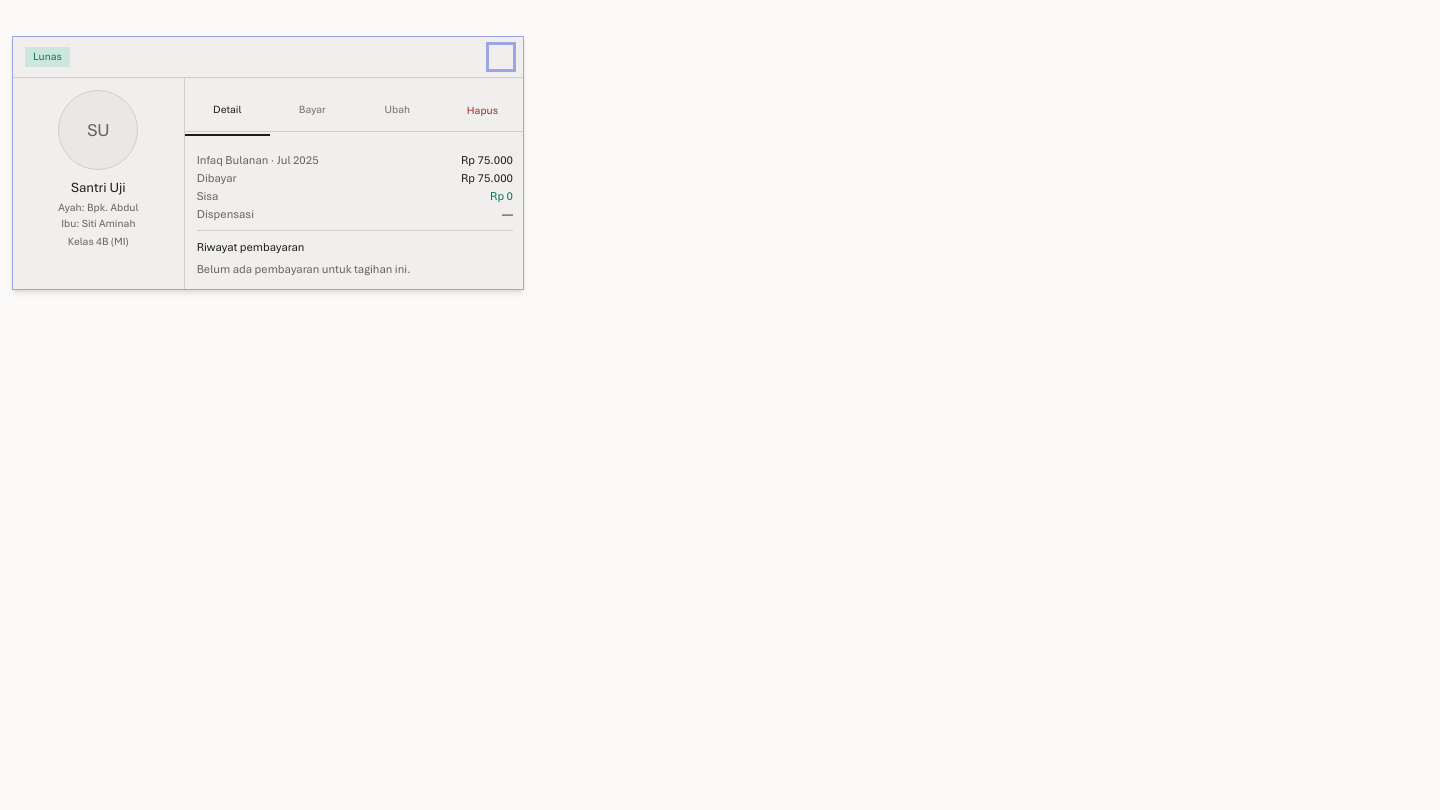
Test: panel bayar › tagihan lunas menyembunyikan form bayar
What coordinates should you click on to do the following:
click the tab "Bayar"
I would click on:
 (312, 102)
Its box is [270,78,355,127].
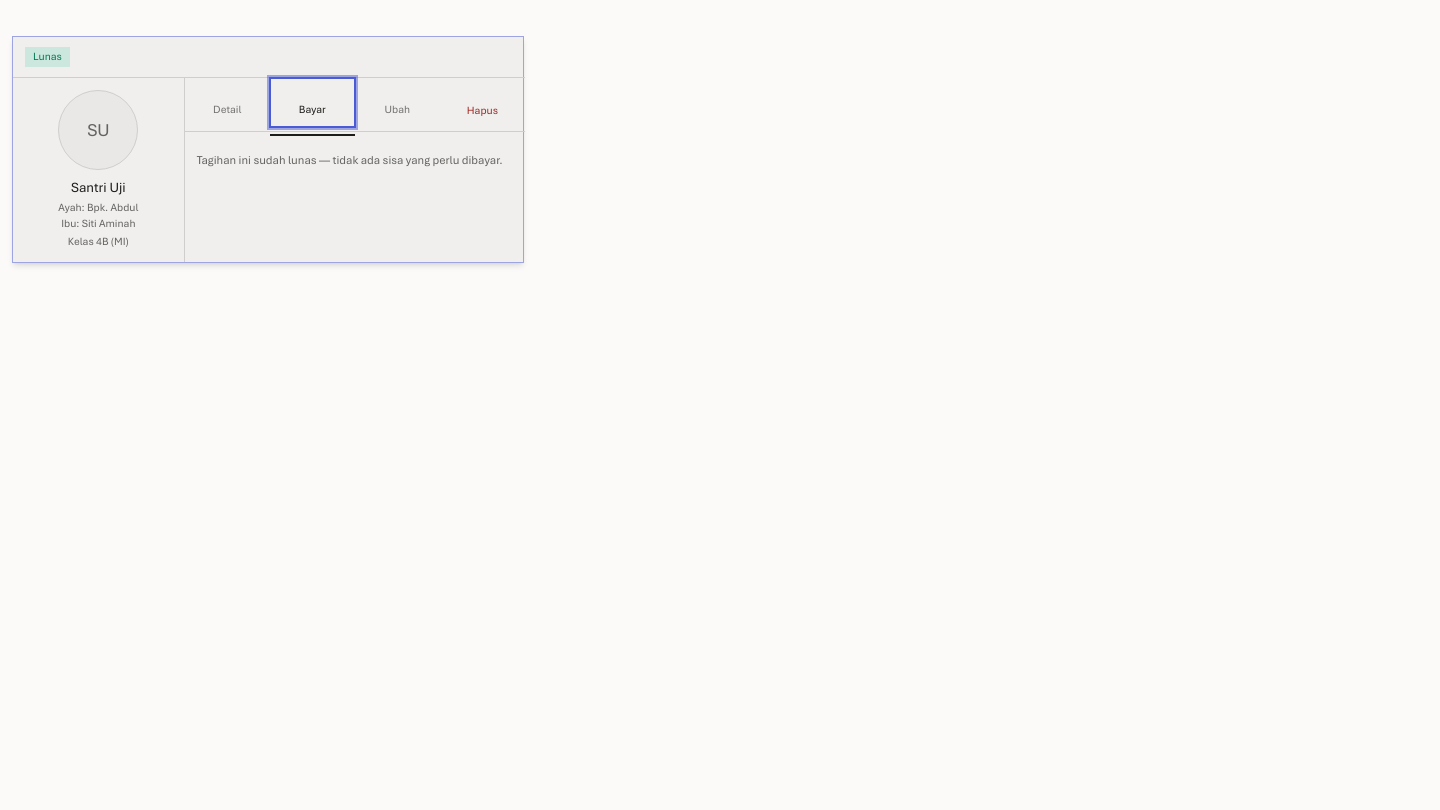
Expected: the text "Tagihan ini sudah lunas — tidak ada sisa yang perlu dibayar." is shown, [197,152,513,168]
